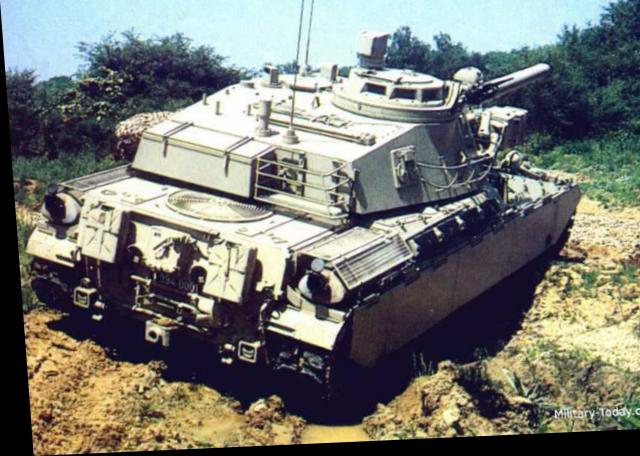tank: (16, 49, 611, 402)
